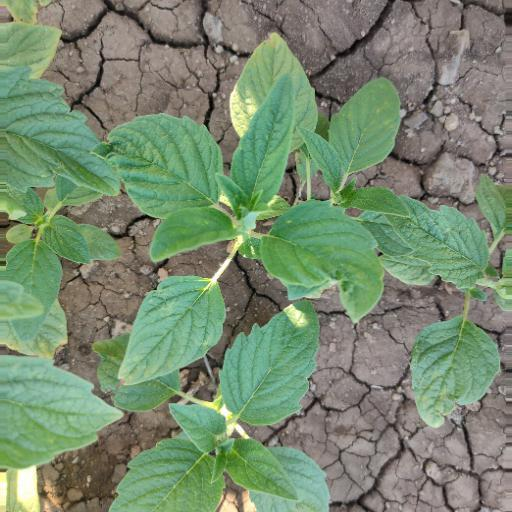crop: (98, 58, 421, 369), (1, 37, 122, 477), (84, 331, 375, 510), (384, 169, 511, 431)
